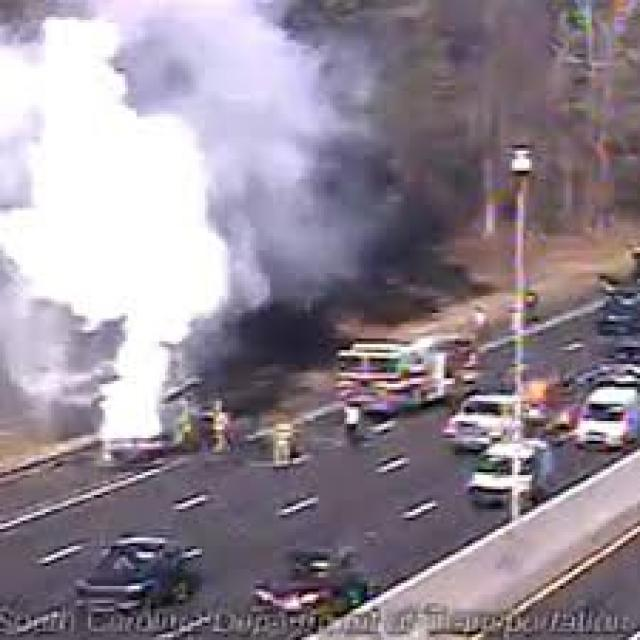smoke: (3, 14, 273, 444), (185, 5, 483, 318)
